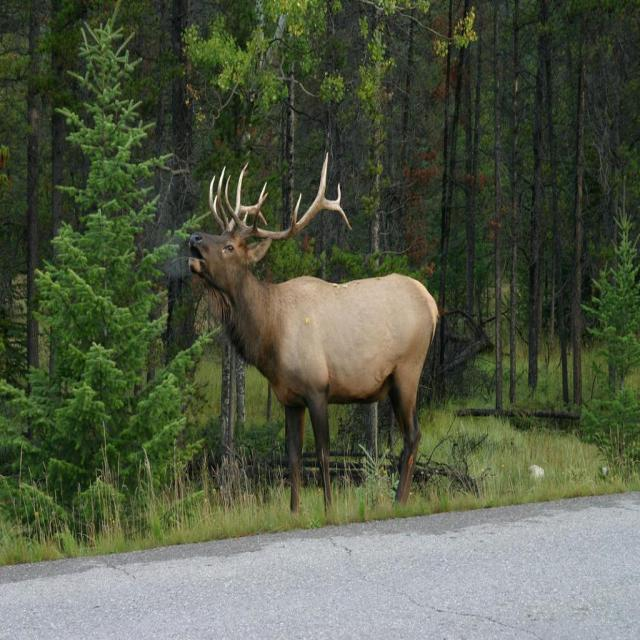Deer: (188, 146, 438, 504)
